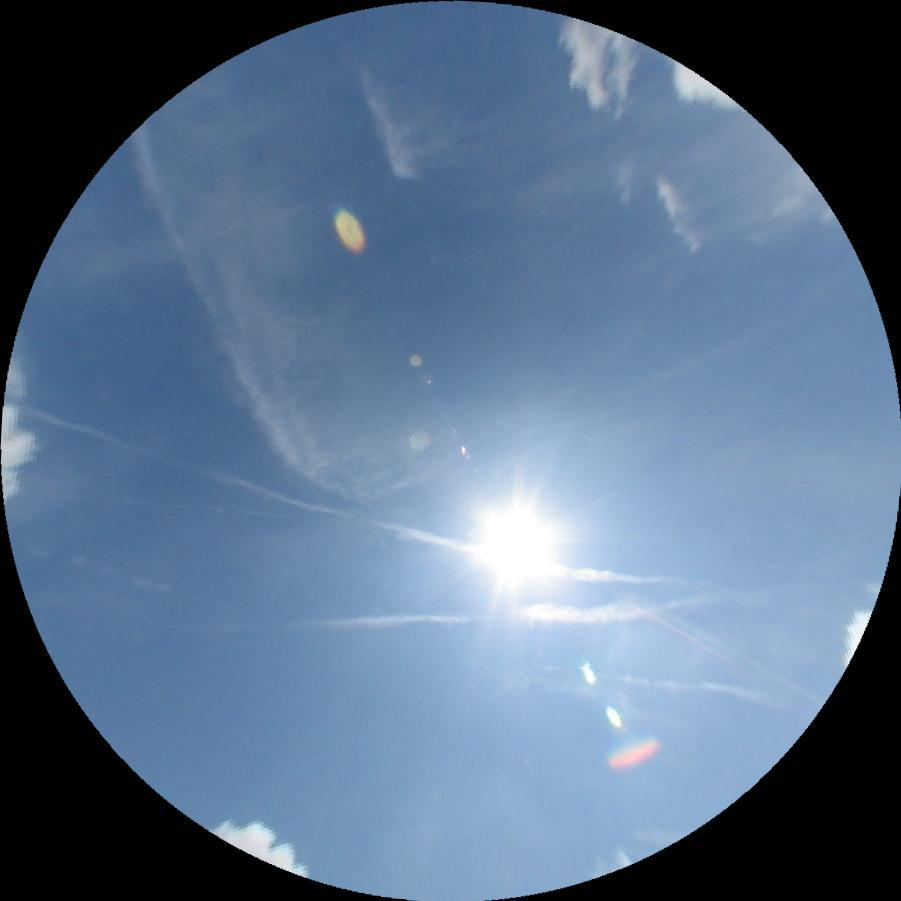contrail veryold: (25, 409, 695, 610), (305, 590, 709, 643)
parasite: (4, 486, 294, 518)
sun: (482, 505, 554, 572)
unknow: (600, 668, 763, 702)
